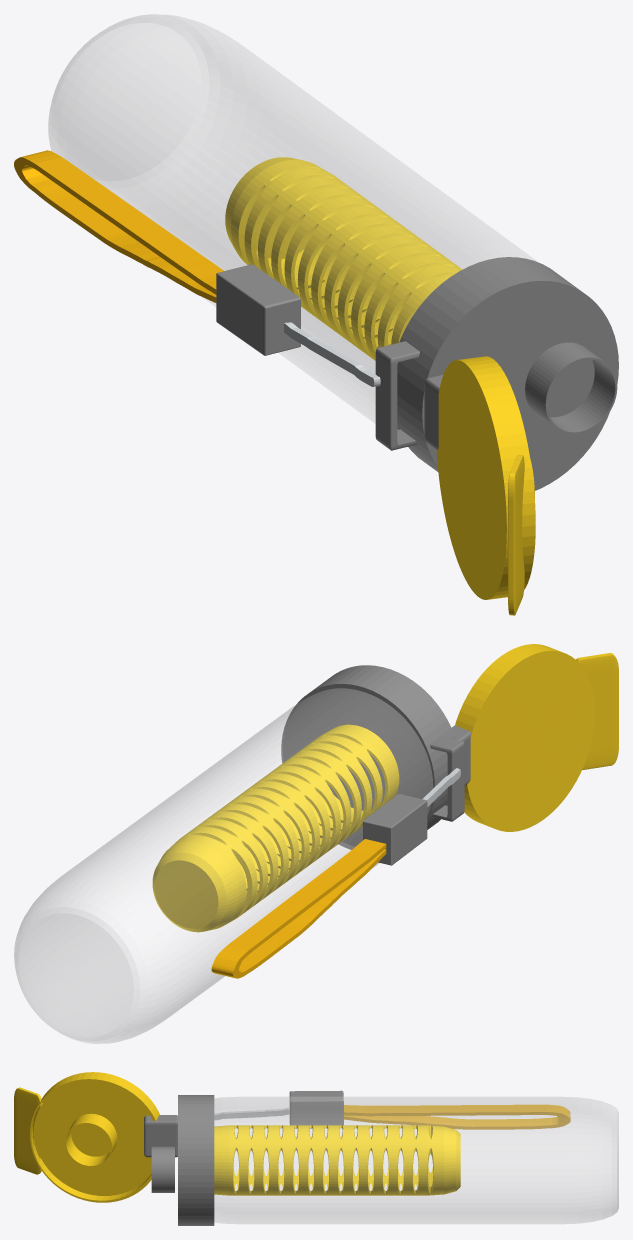
File: sample.obj
3 views of the same model, one above another, from view 1: azimuth 30°, elevation 25°; view 2: azimuth 150°, elevation 25°; view 3: azimuth 270°, elevation 25° (orthographic). The views are drawn at different scales.
Visible parts, largest first — view 1: obj_0, obj_10, obj_2, obj_4, obj_7, obj_1, obj_8, obj_6, obj_9, obj_3; view 2: obj_0, obj_10, obj_4, obj_2, obj_7, obj_6, obj_8; view 3: obj_0, obj_10, obj_4, obj_7, obj_2, obj_6, obj_5, obj_3, obj_1, obj_9.
Part boxes in pixels (box(x1,y1,x2,y2)): obj_0: box(48, 14, 538, 447); obj_10: box(225, 157, 462, 360); obj_2: box(397, 257, 618, 490); obj_4: box(436, 356, 535, 599); obj_7: box(14, 150, 300, 355); obj_1: box(525, 342, 617, 434); obj_8: box(375, 341, 419, 450); obj_6: box(508, 454, 524, 615); obj_9: box(284, 322, 380, 386); obj_3: box(424, 374, 443, 449); obj_0: box(14, 688, 432, 1043); obj_10: box(152, 724, 399, 932); obj_4: box(455, 644, 595, 831); obj_2: box(281, 665, 455, 849); obj_7: box(211, 794, 427, 978); obj_6: box(576, 653, 618, 769); obj_8: box(430, 736, 464, 821); obj_0: box(214, 1097, 618, 1223); obj_10: box(214, 1125, 460, 1195); obj_4: box(30, 1072, 159, 1202); obj_7: box(289, 1090, 570, 1129); obj_2: box(178, 1095, 214, 1225); obj_6: box(14, 1087, 42, 1174); obj_5: box(65, 1113, 117, 1167); obj_3: box(144, 1115, 177, 1157); obj_1: box(151, 1146, 174, 1192); obj_9: box(214, 1108, 289, 1120).
Size of the model in its own units: 37.75 by 31.88 by 138.
